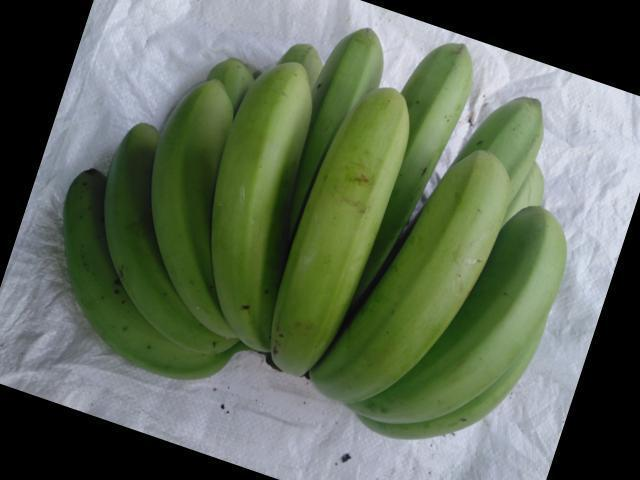freshunripe: (334, 155, 509, 406), (278, 85, 418, 373), (411, 215, 580, 447), (208, 57, 313, 340), (53, 159, 190, 368), (107, 114, 198, 399), (158, 66, 246, 323), (381, 49, 493, 153), (305, 20, 396, 142), (469, 83, 577, 179)
